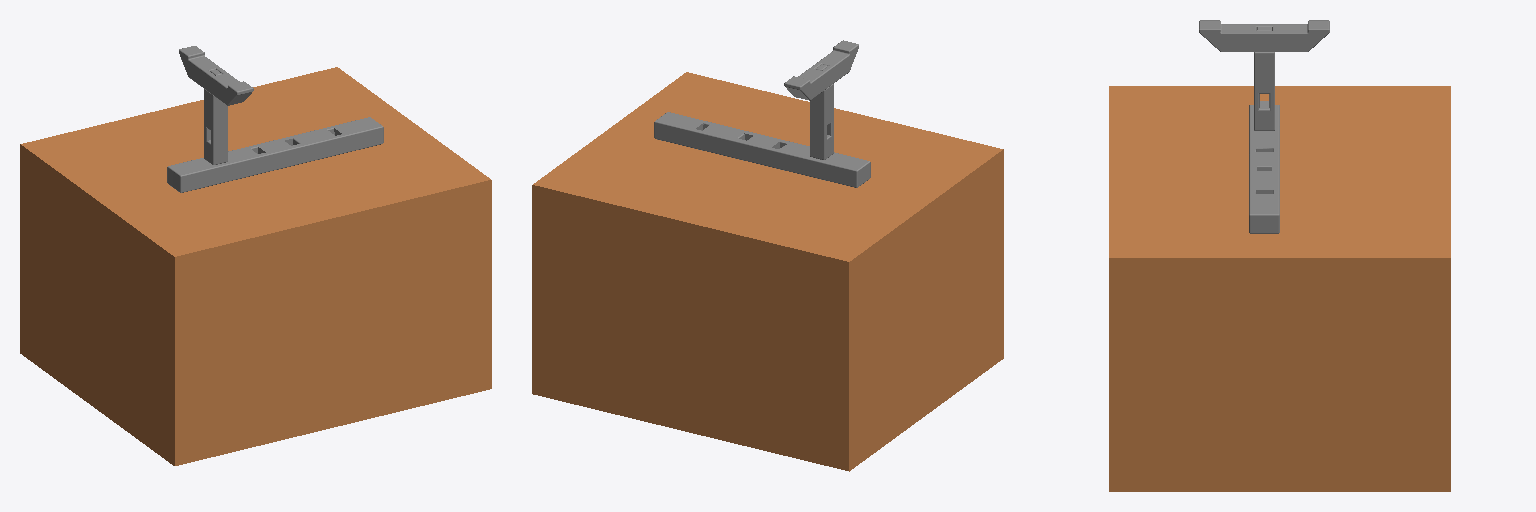
The robot description file, URDF, robot "table_beam_2x_3_scene_0019":
<?xml version="1.0"?>
<robot name="table_beam_2x_3_scene_0019">
  <link name="box">
    <visual>
      <material name="wood"><color rgba="0.82 0.56 0.35 1.0"/></material>
      <origin xyz="0 0 0"/>
      <geometry><box size="0.475 0.4 0.3"/></geometry>
    </visual>
    <collision>
      <origin xyz="0 0 0"/>
      <geometry><box size="0.475 0.4 0.3"/></geometry>
    </collision>
    <inertial>
      <mass value="500"/>
      <friction value="1.0"/>
      <inertia ixx="1000.0" ixy="0.0" ixz="0.0" iyy="1000.0" iyz="0.0" izz="1000.0"/>
    </inertial>
  </link>
  <link name="part_6_hull_0">
    <visual>
      <origin xyz="0 0 0" rpy="0 0 0"/>
      <geometry><mesh filename="../../6/coacd/decomp_0.obj" scale="1 1 1"/></geometry>
      <material name="placed_0"><color rgba="0.6 0.6 0.6 1.0"/></material>
    </visual>
    <collision>
      <origin xyz="0 0 0" rpy="0 0 0"/>
      <geometry><mesh filename="../../6/coacd/decomp_0.obj" scale="1 1 1"/></geometry>
    </collision>
  </link>
  <joint name="part_6_hull_0_joint" type="fixed">
    <parent link="box"/>
    <child link="part_6_hull_0"/>
    <origin xyz="0.018760 -0.018108 0.162666" rpy="0.000000 0.000000 0.000000"/>
  </joint>
  <link name="part_6_hull_1">
    <visual>
      <origin xyz="0 0 0" rpy="0 0 0"/>
      <geometry><mesh filename="../../6/coacd/decomp_1.obj" scale="1 1 1"/></geometry>
      <material name="placed_1"><color rgba="0.6 0.6 0.6 1.0"/></material>
    </visual>
    <collision>
      <origin xyz="0 0 0" rpy="0 0 0"/>
      <geometry><mesh filename="../../6/coacd/decomp_1.obj" scale="1 1 1"/></geometry>
    </collision>
  </link>
  <joint name="part_6_hull_1_joint" type="fixed">
    <parent link="box"/>
    <child link="part_6_hull_1"/>
    <origin xyz="0.018760 -0.018108 0.162666" rpy="0.000000 0.000000 0.000000"/>
  </joint>
  <link name="part_6_hull_2">
    <visual>
      <origin xyz="0 0 0" rpy="0 0 0"/>
      <geometry><mesh filename="../../6/coacd/decomp_10.obj" scale="1 1 1"/></geometry>
      <material name="placed_2"><color rgba="0.6 0.6 0.6 1.0"/></material>
    </visual>
    <collision>
      <origin xyz="0 0 0" rpy="0 0 0"/>
      <geometry><mesh filename="../../6/coacd/decomp_10.obj" scale="1 1 1"/></geometry>
    </collision>
  </link>
  <joint name="part_6_hull_2_joint" type="fixed">
    <parent link="box"/>
    <child link="part_6_hull_2"/>
    <origin xyz="0.018760 -0.018108 0.162666" rpy="0.000000 0.000000 0.000000"/>
  </joint>
  <link name="part_6_hull_3">
    <visual>
      <origin xyz="0 0 0" rpy="0 0 0"/>
      <geometry><mesh filename="../../6/coacd/decomp_11.obj" scale="1 1 1"/></geometry>
      <material name="placed_3"><color rgba="0.6 0.6 0.6 1.0"/></material>
    </visual>
    <collision>
      <origin xyz="0 0 0" rpy="0 0 0"/>
      <geometry><mesh filename="../../6/coacd/decomp_11.obj" scale="1 1 1"/></geometry>
    </collision>
  </link>
  <joint name="part_6_hull_3_joint" type="fixed">
    <parent link="box"/>
    <child link="part_6_hull_3"/>
    <origin xyz="0.018760 -0.018108 0.162666" rpy="0.000000 0.000000 0.000000"/>
  </joint>
  <link name="part_6_hull_4">
    <visual>
      <origin xyz="0 0 0" rpy="0 0 0"/>
      <geometry><mesh filename="../../6/coacd/decomp_12.obj" scale="1 1 1"/></geometry>
      <material name="placed_4"><color rgba="0.6 0.6 0.6 1.0"/></material>
    </visual>
    <collision>
      <origin xyz="0 0 0" rpy="0 0 0"/>
      <geometry><mesh filename="../../6/coacd/decomp_12.obj" scale="1 1 1"/></geometry>
    </collision>
  </link>
  <joint name="part_6_hull_4_joint" type="fixed">
    <parent link="box"/>
    <child link="part_6_hull_4"/>
    <origin xyz="0.018760 -0.018108 0.162666" rpy="0.000000 0.000000 0.000000"/>
  </joint>
  <link name="part_6_hull_5">
    <visual>
      <origin xyz="0 0 0" rpy="0 0 0"/>
      <geometry><mesh filename="../../6/coacd/decomp_13.obj" scale="1 1 1"/></geometry>
      <material name="placed_5"><color rgba="0.6 0.6 0.6 1.0"/></material>
    </visual>
    <collision>
      <origin xyz="0 0 0" rpy="0 0 0"/>
      <geometry><mesh filename="../../6/coacd/decomp_13.obj" scale="1 1 1"/></geometry>
    </collision>
  </link>
  <joint name="part_6_hull_5_joint" type="fixed">
    <parent link="box"/>
    <child link="part_6_hull_5"/>
    <origin xyz="0.018760 -0.018108 0.162666" rpy="0.000000 0.000000 0.000000"/>
  </joint>
  <link name="part_6_hull_6">
    <visual>
      <origin xyz="0 0 0" rpy="0 0 0"/>
      <geometry><mesh filename="../../6/coacd/decomp_2.obj" scale="1 1 1"/></geometry>
      <material name="placed_6"><color rgba="0.6 0.6 0.6 1.0"/></material>
    </visual>
    <collision>
      <origin xyz="0 0 0" rpy="0 0 0"/>
      <geometry><mesh filename="../../6/coacd/decomp_2.obj" scale="1 1 1"/></geometry>
    </collision>
  </link>
  <joint name="part_6_hull_6_joint" type="fixed">
    <parent link="box"/>
    <child link="part_6_hull_6"/>
    <origin xyz="0.018760 -0.018108 0.162666" rpy="0.000000 0.000000 0.000000"/>
  </joint>
  <link name="part_6_hull_7">
    <visual>
      <origin xyz="0 0 0" rpy="0 0 0"/>
      <geometry><mesh filename="../../6/coacd/decomp_3.obj" scale="1 1 1"/></geometry>
      <material name="placed_7"><color rgba="0.6 0.6 0.6 1.0"/></material>
    </visual>
    <collision>
      <origin xyz="0 0 0" rpy="0 0 0"/>
      <geometry><mesh filename="../../6/coacd/decomp_3.obj" scale="1 1 1"/></geometry>
    </collision>
  </link>
  <joint name="part_6_hull_7_joint" type="fixed">
    <parent link="box"/>
    <child link="part_6_hull_7"/>
    <origin xyz="0.018760 -0.018108 0.162666" rpy="0.000000 0.000000 0.000000"/>
  </joint>
  <link name="part_6_hull_8">
    <visual>
      <origin xyz="0 0 0" rpy="0 0 0"/>
      <geometry><mesh filename="../../6/coacd/decomp_4.obj" scale="1 1 1"/></geometry>
      <material name="placed_8"><color rgba="0.6 0.6 0.6 1.0"/></material>
    </visual>
    <collision>
      <origin xyz="0 0 0" rpy="0 0 0"/>
      <geometry><mesh filename="../../6/coacd/decomp_4.obj" scale="1 1 1"/></geometry>
    </collision>
  </link>
  <joint name="part_6_hull_8_joint" type="fixed">
    <parent link="box"/>
    <child link="part_6_hull_8"/>
    <origin xyz="0.018760 -0.018108 0.162666" rpy="0.000000 0.000000 0.000000"/>
  </joint>
  <link name="part_6_hull_9">
    <visual>
      <origin xyz="0 0 0" rpy="0 0 0"/>
      <geometry><mesh filename="../../6/coacd/decomp_5.obj" scale="1 1 1"/></geometry>
      <material name="placed_9"><color rgba="0.6 0.6 0.6 1.0"/></material>
    </visual>
    <collision>
      <origin xyz="0 0 0" rpy="0 0 0"/>
      <geometry><mesh filename="../../6/coacd/decomp_5.obj" scale="1 1 1"/></geometry>
    </collision>
  </link>
  <joint name="part_6_hull_9_joint" type="fixed">
    <parent link="box"/>
    <child link="part_6_hull_9"/>
    <origin xyz="0.018760 -0.018108 0.162666" rpy="0.000000 0.000000 0.000000"/>
  </joint>
  <link name="part_6_hull_10">
    <visual>
      <origin xyz="0 0 0" rpy="0 0 0"/>
      <geometry><mesh filename="../../6/coacd/decomp_6.obj" scale="1 1 1"/></geometry>
      <material name="placed_10"><color rgba="0.6 0.6 0.6 1.0"/></material>
    </visual>
    <collision>
      <origin xyz="0 0 0" rpy="0 0 0"/>
      <geometry><mesh filename="../../6/coacd/decomp_6.obj" scale="1 1 1"/></geometry>
    </collision>
  </link>
  <joint name="part_6_hull_10_joint" type="fixed">
    <parent link="box"/>
    <child link="part_6_hull_10"/>
    <origin xyz="0.018760 -0.018108 0.162666" rpy="0.000000 0.000000 0.000000"/>
  </joint>
  <link name="part_6_hull_11">
    <visual>
      <origin xyz="0 0 0" rpy="0 0 0"/>
      <geometry><mesh filename="../../6/coacd/decomp_7.obj" scale="1 1 1"/></geometry>
      <material name="placed_11"><color rgba="0.6 0.6 0.6 1.0"/></material>
    </visual>
    <collision>
      <origin xyz="0 0 0" rpy="0 0 0"/>
      <geometry><mesh filename="../../6/coacd/decomp_7.obj" scale="1 1 1"/></geometry>
    </collision>
  </link>
  <joint name="part_6_hull_11_joint" type="fixed">
    <parent link="box"/>
    <child link="part_6_hull_11"/>
    <origin xyz="0.018760 -0.018108 0.162666" rpy="0.000000 0.000000 0.000000"/>
  </joint>
  <link name="part_6_hull_12">
    <visual>
      <origin xyz="0 0 0" rpy="0 0 0"/>
      <geometry><mesh filename="../../6/coacd/decomp_8.obj" scale="1 1 1"/></geometry>
      <material name="placed_12"><color rgba="0.6 0.6 0.6 1.0"/></material>
    </visual>
    <collision>
      <origin xyz="0 0 0" rpy="0 0 0"/>
      <geometry><mesh filename="../../6/coacd/decomp_8.obj" scale="1 1 1"/></geometry>
    </collision>
  </link>
  <joint name="part_6_hull_12_joint" type="fixed">
    <parent link="box"/>
    <child link="part_6_hull_12"/>
    <origin xyz="0.018760 -0.018108 0.162666" rpy="0.000000 0.000000 0.000000"/>
  </joint>
  <link name="part_6_hull_13">
    <visual>
      <origin xyz="0 0 0" rpy="0 0 0"/>
      <geometry><mesh filename="../../6/coacd/decomp_9.obj" scale="1 1 1"/></geometry>
      <material name="placed_13"><color rgba="0.6 0.6 0.6 1.0"/></material>
    </visual>
    <collision>
      <origin xyz="0 0 0" rpy="0 0 0"/>
      <geometry><mesh filename="../../6/coacd/decomp_9.obj" scale="1 1 1"/></geometry>
    </collision>
  </link>
  <joint name="part_6_hull_13_joint" type="fixed">
    <parent link="box"/>
    <child link="part_6_hull_13"/>
    <origin xyz="0.018760 -0.018108 0.162666" rpy="0.000000 0.000000 0.000000"/>
  </joint>
  <link name="part_2_canonical">
    <visual>
      <origin xyz="0 0 0" rpy="0 0 0"/>
      <geometry><mesh filename="../../2/2_canonical.obj" scale="1 1 1"/></geometry>
      <material name="placed_14"><color rgba="0.6 0.6 0.6 1.0"/></material>
    </visual>
    <collision>
      <origin xyz="0 0 0" rpy="0 0 0"/>
      <geometry><mesh filename="../../2/2_canonical.obj" scale="1 1 1"/></geometry>
    </collision>
  </link>
  <joint name="part_2_canonical_joint" type="fixed">
    <parent link="box"/>
    <child link="part_2_canonical"/>
    <origin xyz="-0.070167 -0.018108 0.225384" rpy="0.000000 -1.570796 0.000000"/>
  </joint>
  <link name="part_0_canonical">
    <visual>
      <origin xyz="0 0 0" rpy="0 0 0"/>
      <geometry><mesh filename="../../0/0_canonical.obj" scale="1 1 1"/></geometry>
      <material name="placed_15"><color rgba="0.6 0.6 0.6 1.0"/></material>
    </visual>
    <collision>
      <origin xyz="0 0 0" rpy="0 0 0"/>
      <geometry><mesh filename="../../0/0_canonical.obj" scale="1 1 1"/></geometry>
    </collision>
  </link>
  <joint name="part_0_canonical_joint" type="fixed">
    <parent link="box"/>
    <child link="part_0_canonical"/>
    <origin xyz="-0.070140 -0.018108 0.292243" rpy="1.570796 0.000000 -1.570796"/>
  </joint>
</robot>

--- What the picture shows (computed from the rendered views, not written in the file) ---
The picture shows the robot from 3 angles, left to right: view 1: azimuth 30°, elevation 25°; view 2: azimuth 150°, elevation 25°; view 3: azimuth 270°, elevation 25°; orthographic projection.
Model table_beam_2x_3_scene_0019 with 17 links and 16 joints (16 fixed), rooted at box, posed every joint at zero.
Visible links, largest first — view 1: box, part_0_canonical, part_2_canonical, part_6_hull_1, part_6_hull_0, part_6_hull_9, part_6_hull_5, part_6_hull_3; view 2: box, part_0_canonical, part_2_canonical, part_6_hull_1, part_6_hull_0, part_6_hull_2, part_6_hull_5, part_6_hull_12; view 3: box, part_0_canonical, part_2_canonical, part_6_hull_0, part_6_hull_5.
Boxes of the visible links, x1,y1,x2,y2 form: box: [20, 67, 491, 465]; part_0_canonical: [179, 46, 253, 105]; part_2_canonical: [204, 69, 227, 164]; part_6_hull_1: [167, 158, 218, 192]; part_6_hull_0: [332, 117, 383, 152]; part_6_hull_9: [218, 153, 268, 183]; part_6_hull_5: [298, 128, 337, 160]; part_6_hull_3: [270, 142, 310, 170]; box: [532, 72, 1003, 471]; part_0_canonical: [784, 40, 858, 100]; part_2_canonical: [810, 64, 833, 159]; part_6_hull_1: [818, 152, 870, 187]; part_6_hull_0: [654, 112, 705, 147]; part_6_hull_2: [776, 144, 812, 176]; part_6_hull_5: [700, 123, 739, 155]; part_6_hull_12: [727, 137, 767, 165]; box: [1109, 86, 1450, 491]; part_0_canonical: [1199, 20, 1329, 51]; part_2_canonical: [1254, 27, 1274, 130]; part_6_hull_0: [1249, 194, 1279, 233]; part_6_hull_5: [1249, 175, 1279, 193].
Bounding box of the posed robot: 0.475 × 0.4 × 0.4575 m (x, y, z).
16 mesh visuals loaded from 16 distinct referenced files (16 OBJ).
